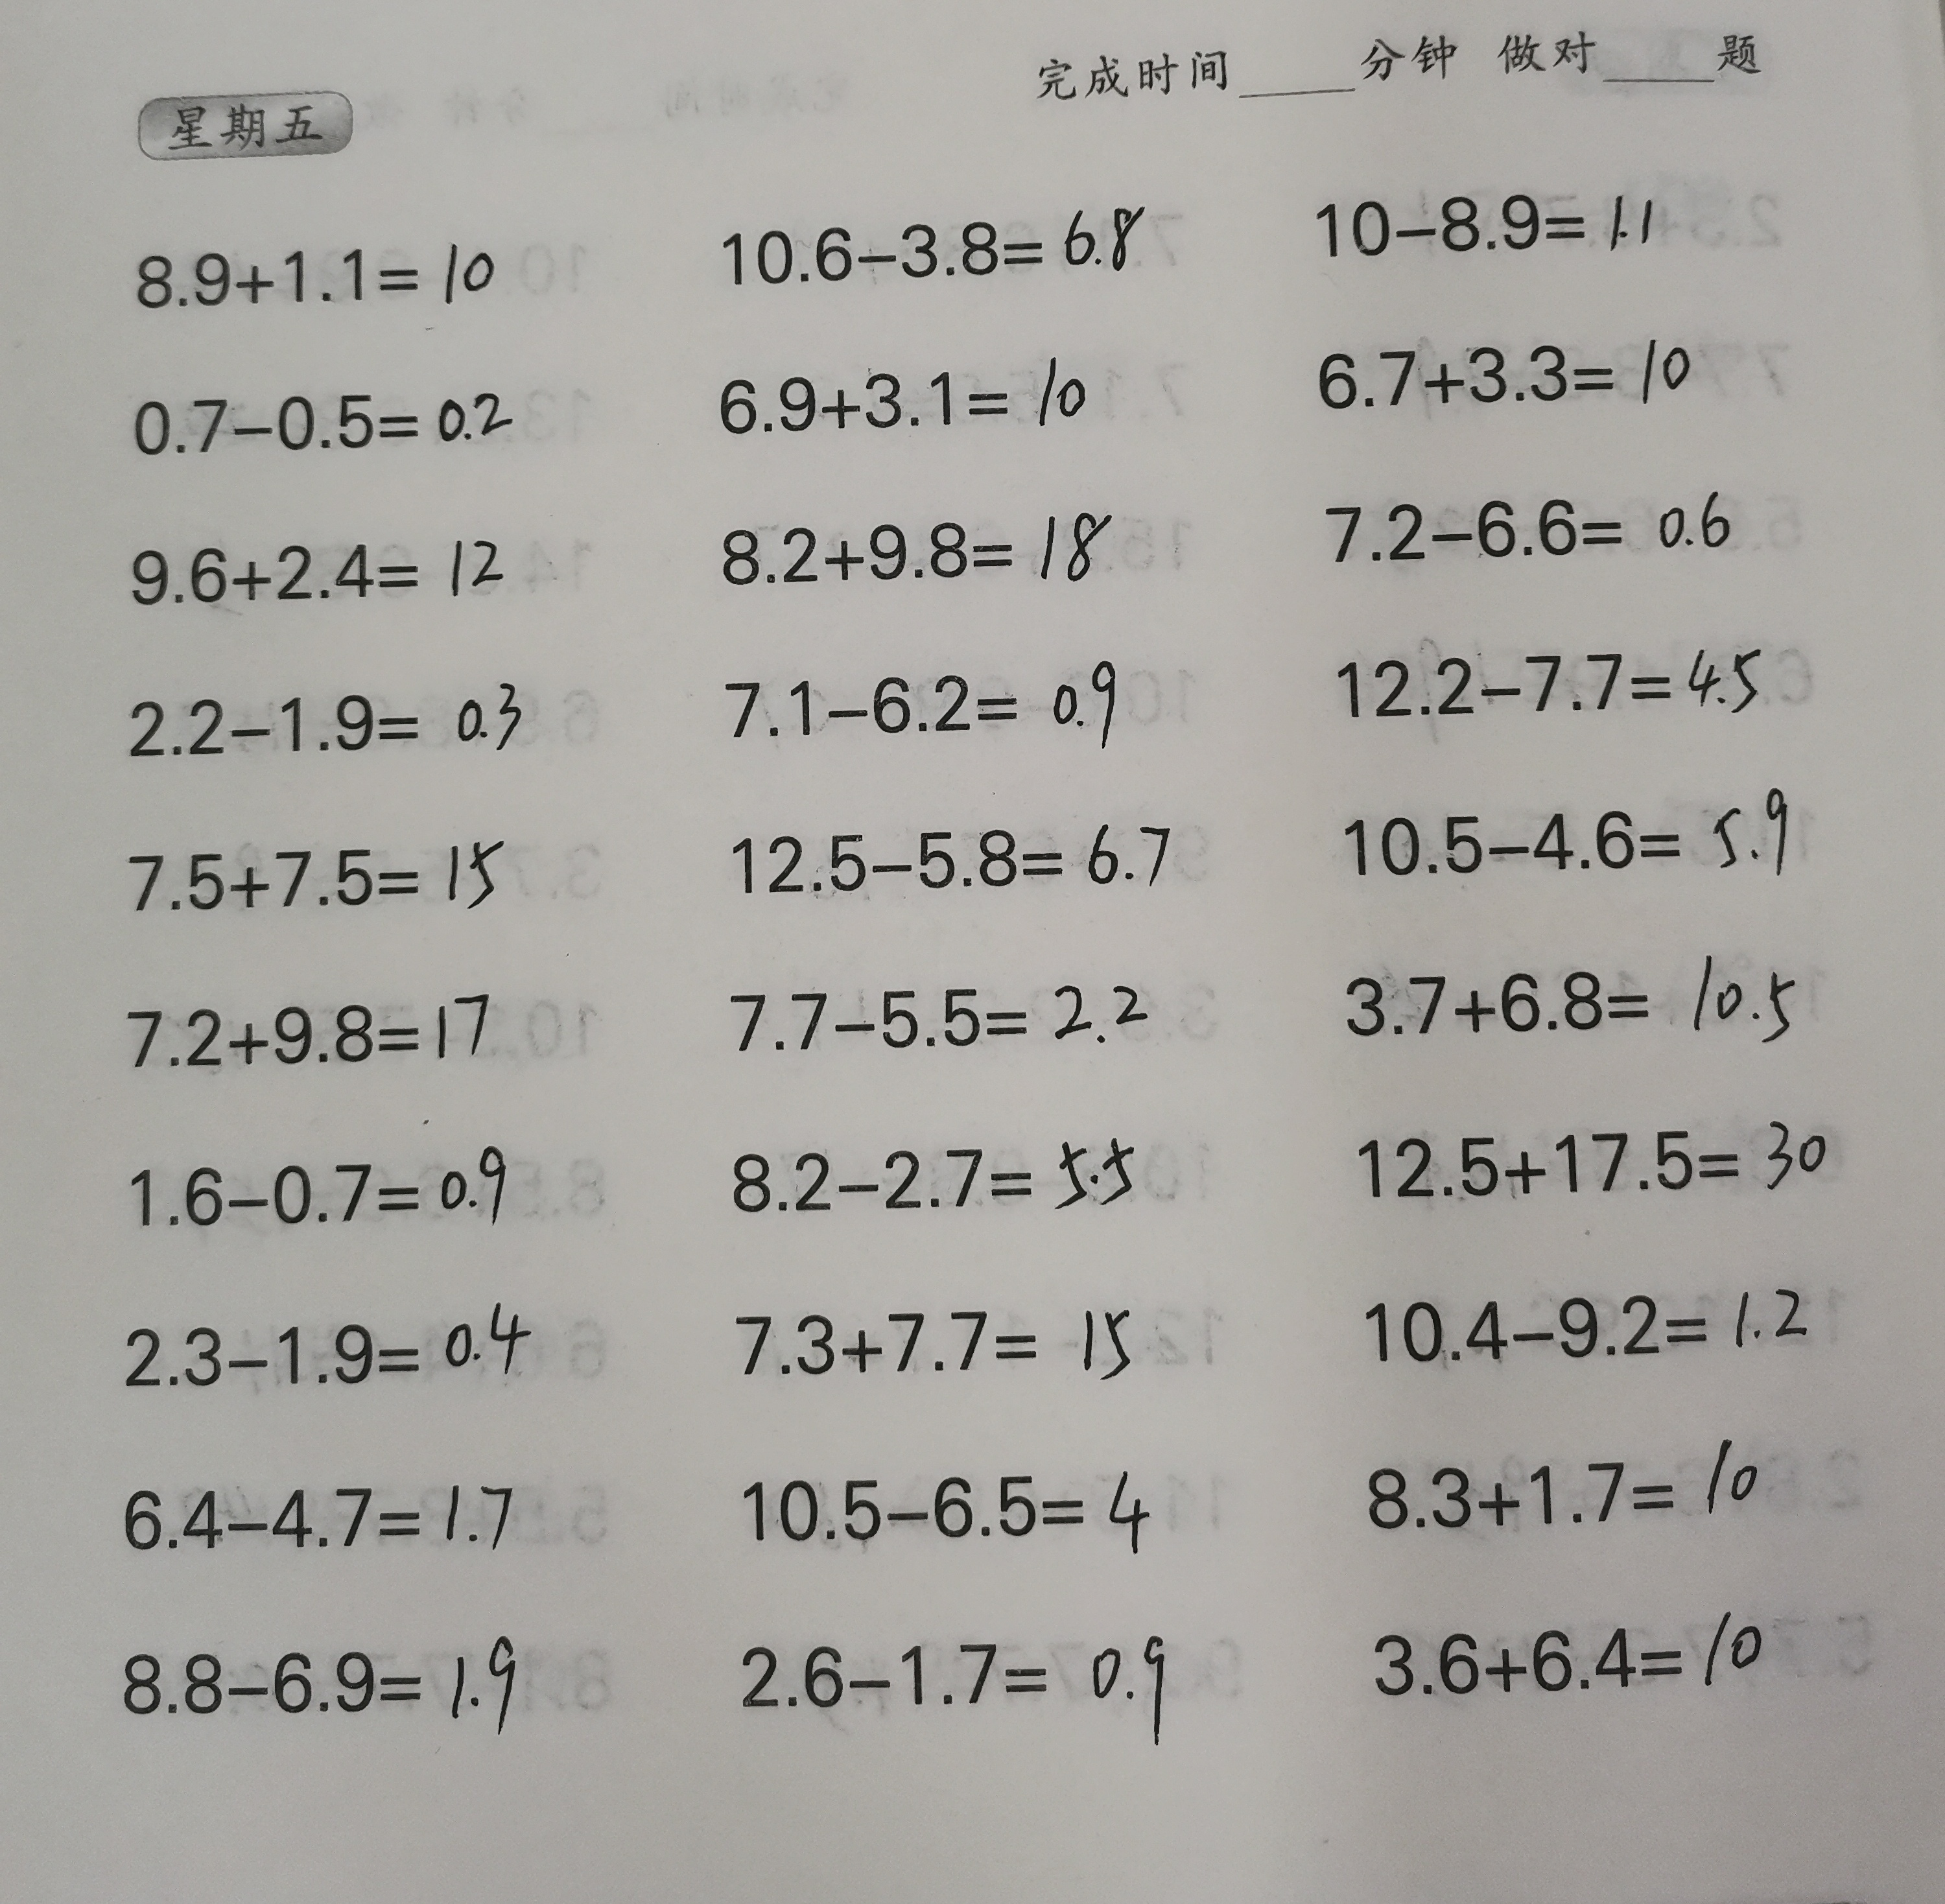equation: (705, 1262, 1174, 1411), (712, 1615, 1207, 1751), (1301, 762, 1807, 894), (1338, 1093, 1865, 1214), (1326, 935, 1819, 1057), (1307, 614, 1798, 732), (85, 1623, 537, 1751), (706, 949, 1174, 1069), (84, 1280, 551, 1398), (1354, 1421, 1779, 1550), (710, 1454, 1177, 1571), (1345, 1261, 1830, 1372), (687, 185, 1170, 296), (703, 1109, 1162, 1226), (108, 1442, 543, 1564), (719, 631, 1141, 757), (1314, 464, 1793, 574), (694, 804, 1190, 905), (113, 199, 536, 317), (1340, 1602, 1804, 1709), (106, 657, 541, 769), (110, 354, 520, 471), (698, 335, 1116, 448), (110, 818, 527, 931), (117, 507, 515, 624), (120, 1128, 530, 1241), (1301, 307, 1710, 418), (706, 490, 1127, 596), (101, 978, 516, 1078), (1296, 174, 1685, 279)
